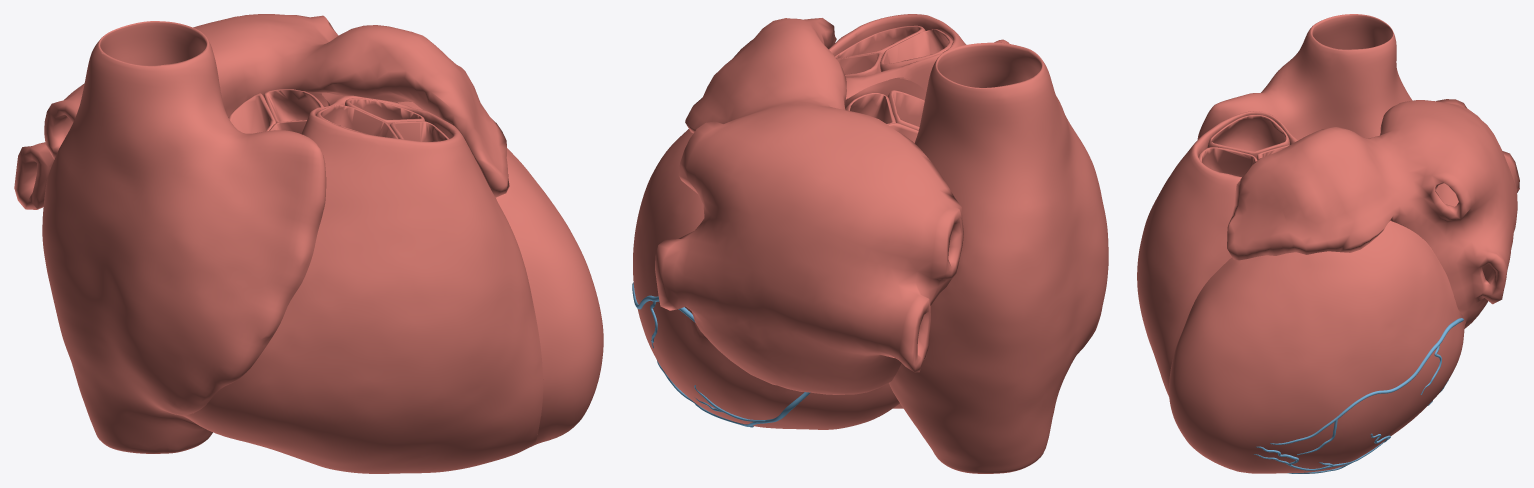
File: heart.glb
The picture shows the model from 3 angles, left to right: view 1: azimuth 30°, elevation 25°; view 2: azimuth 150°, elevation 25°; view 3: azimuth 270°, elevation 25°; orthographic projection. The views are drawn at different scales.
Visible parts, largest first — view 1: Right atrium.001, Right ventricle.001, Left atrium.001, Left ventricle.001, Left coronary leaflet.001, Right semilunar leaflet of pulmonary valve.001, Non-coronary leaflet.001, Left semilunar leaflet of pulmonary valve.001, Anterior semilunar leaflet of pulmonary valve.001; view 2: Left atrium.001, Right atrium.001, Left ventricle.001, Right ventricle.001, Right semilunar leaflet of pulmonary valve.001, Anterior semilunar leaflet of pulmonary valve.001, Right coronary leaflet.001, Left coronary leaflet.001, Inferior vein of left ventricle (//Posterior '').001, Left semilunar leaflet of pulmonary valve.001; view 3: Left ventricle.001, Left atrium.001, Right atrium.001, Right ventricle.001, Right semilunar leaflet of pulmonary valve.001, Inferior vein of left ventricle.001, Anterior semilunar leaflet of pulmonary valve.001, Inferior vein of left ventricle (//Posterior '').001.
Part boxes in pixels (bbox=[...]): Right atrium.001: bbox=[42, 21, 326, 453]; Right ventricle.001: bbox=[184, 92, 543, 473]; Left atrium.001: bbox=[14, 14, 509, 209]; Left ventricle.001: bbox=[311, 93, 603, 445]; Left coronary leaflet.001: bbox=[263, 89, 323, 122]; Right semilunar leaflet of pulmonary valve.001: bbox=[316, 105, 398, 138]; Non-coronary leaflet.001: bbox=[228, 93, 275, 133]; Left semilunar leaflet of pulmonary valve.001: bbox=[344, 98, 424, 125]; Anterior semilunar leaflet of pulmonary valve.001: bbox=[390, 121, 448, 141]; Left atrium.001: bbox=[655, 18, 963, 394]; Right atrium.001: bbox=[889, 39, 1108, 473]; Left ventricle.001: bbox=[633, 77, 926, 429]; Right ventricle.001: bbox=[828, 14, 966, 408]; Right semilunar leaflet of pulmonary valve.001: bbox=[880, 29, 953, 71]; Anterior semilunar leaflet of pulmonary valve.001: bbox=[834, 25, 925, 58]; Right coronary leaflet.001: bbox=[888, 90, 924, 130]; Left coronary leaflet.001: bbox=[845, 93, 895, 124]; Inferior vein of left ventricle (//Posterior '').001: bbox=[657, 360, 810, 427]; Left semilunar leaflet of pulmonary valve.001: bbox=[836, 52, 882, 77]; Left ventricle.001: bbox=[1169, 221, 1465, 473]; Left atrium.001: bbox=[1227, 99, 1519, 328]; Right atrium.001: bbox=[1197, 14, 1412, 220]; Right ventricle.001: bbox=[1137, 111, 1298, 396]; Right semilunar leaflet of pulmonary valve.001: bbox=[1207, 115, 1289, 158]; Inferior vein of left ventricle.001: bbox=[1256, 318, 1463, 465]; Anterior semilunar leaflet of pulmonary valve.001: bbox=[1198, 147, 1257, 176]; Inferior vein of left ventricle (//Posterior '').001: bbox=[1253, 380, 1448, 473].
Size of the model in its own units: 0.1191 by 0.108 by 0.1129.
